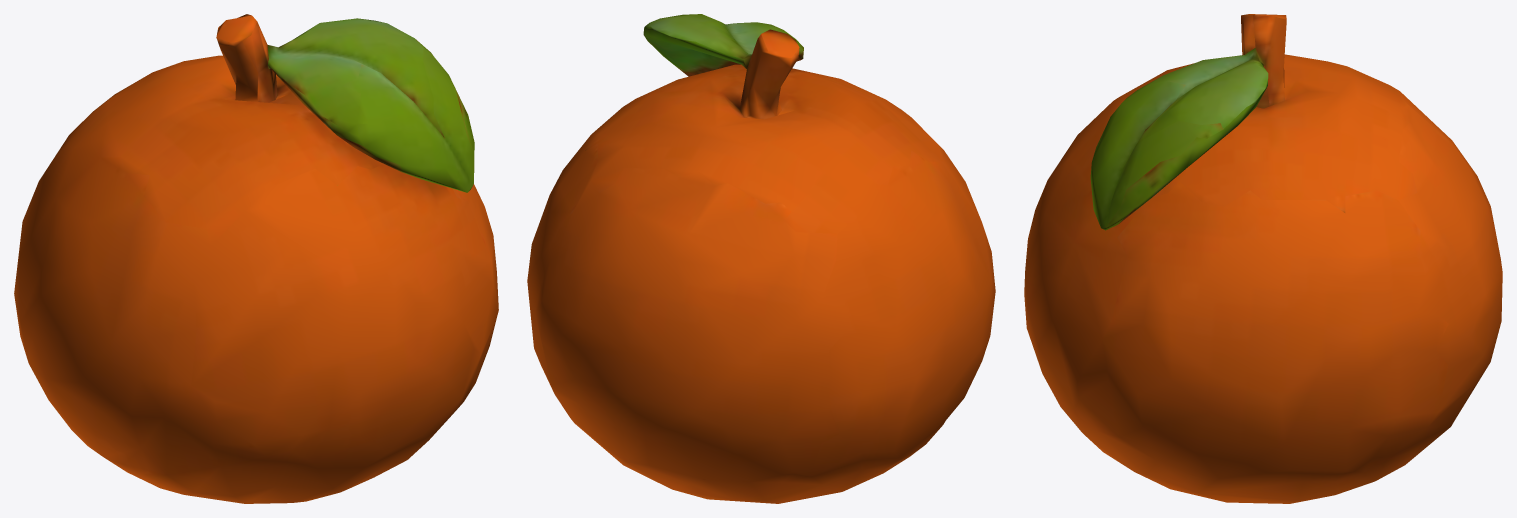
Rendered from orange.glb.
The picture shows the model from 3 angles, left to right: view 1: azimuth 30°, elevation 25°; view 2: azimuth 150°, elevation 25°; view 3: azimuth 270°, elevation 25°; orthographic projection. The views are drawn at different scales.
Parts seen in each view (by area): view 1: textured_mesh.obj; view 2: textured_mesh.obj; view 3: textured_mesh.obj.
Boxes of the visible parts, x1=… form: textured_mesh.obj: x1=14, y1=14, x2=498, y2=503; textured_mesh.obj: x1=527, y1=14, x2=995, y2=503; textured_mesh.obj: x1=1024, y1=14, x2=1502, y2=503.
Size of what is drawn, in the model's own units: 0.2131 by 0.2197 by 0.2126.
Materials: 1 (1 with a texture image).
